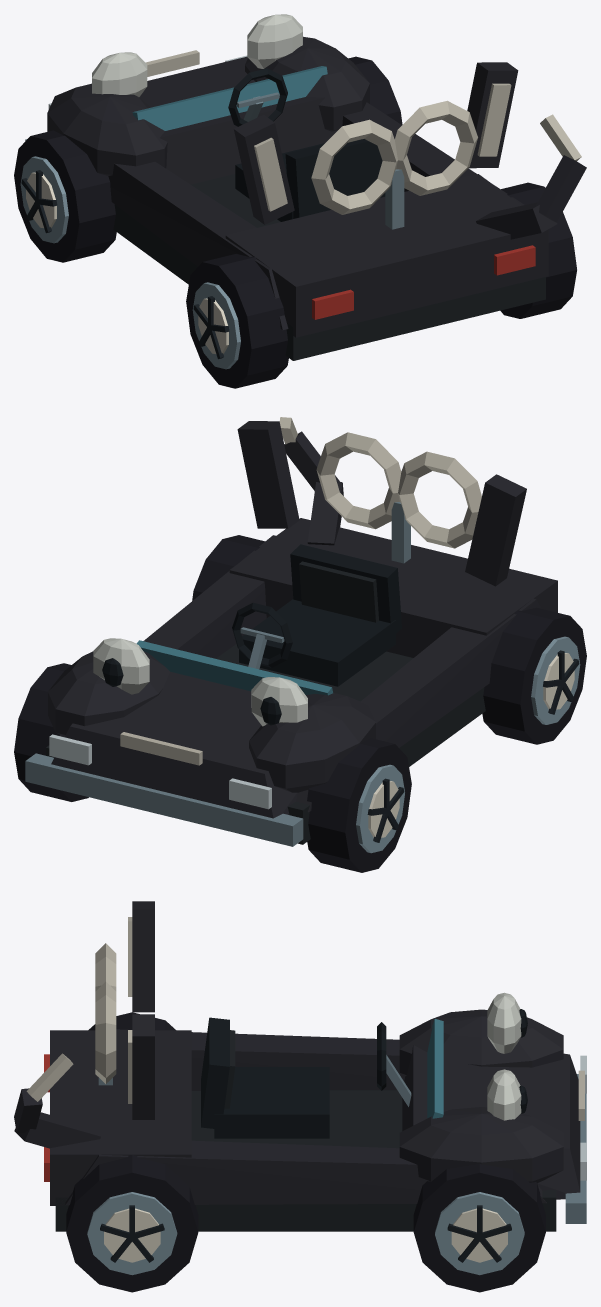
File: kart.glb
The picture shows the model from 3 angles, top to bottom: view 1: azimuth 30°, elevation 25°; view 2: azimuth 150°, elevation 25°; view 3: azimuth 270°, elevation 25°; orthographic projection.
Parts seen in each view (by area): view 1: identity-toy-car-toy-rounded-body-and-wind-up-key, wheel-rear-left, wheel-front-left, identity-toy-car-motif-ears, identity-toy-car-driver-cockpit, identity-toy-car-motif-eyes, identity-toy-car-motif-tail, wheel-rear-right, wheel-front-right; view 2: identity-toy-car-toy-rounded-body-and-wind-up-key, identity-toy-car-driver-cockpit, wheel-rear-left, wheel-front-left, identity-toy-car-motif-ears, identity-toy-car-motif-eyes, wheel-front-right, identity-toy-car-motif-tail, wheel-rear-right; view 3: identity-toy-car-toy-rounded-body-and-wind-up-key, wheel-rear-right, wheel-front-right, identity-toy-car-driver-cockpit, identity-toy-car-motif-ears, identity-toy-car-motif-eyes, identity-toy-car-motif-tail, wheel-rear-left.
Part boxes in pixels (x1=…): identity-toy-car-toy-rounded-body-and-wind-up-key: x1=25, y1=36, x2=548, y2=360; wheel-rear-left: x1=186, y1=254, x2=288, y2=388; wheel-front-left: x1=14, y1=130, x2=116, y2=262; identity-toy-car-motif-ears: x1=234, y1=62, x2=518, y2=224; identity-toy-car-driver-cockpit: x1=228, y1=68, x2=385, y2=221; identity-toy-car-motif-eyes: x1=92, y1=14, x2=302, y2=96; identity-toy-car-motif-tail: x1=476, y1=114, x2=586, y2=239; wheel-rear-right: x1=500, y1=182, x2=576, y2=318; wheel-front-right: x1=348, y1=56, x2=402, y2=124; identity-toy-car-toy-rounded-body-and-wind-up-key: x1=25, y1=432, x2=557, y2=846; identity-toy-car-driver-cockpit: x1=232, y1=544, x2=401, y2=686; wheel-rear-left: x1=482, y1=607, x2=586, y2=744; wheel-front-left: x1=307, y1=738, x2=411, y2=872; identity-toy-car-motif-ears: x1=237, y1=421, x2=526, y2=586; identity-toy-car-motif-eyes: x1=93, y1=638, x2=307, y2=726; wheel-front-right: x1=14, y1=663, x2=88, y2=801; identity-toy-car-motif-tail: x1=279, y1=417, x2=343, y2=545; wheel-rear-right: x1=192, y1=535, x2=264, y2=600; identity-toy-car-toy-rounded-body-and-wind-up-key: x1=44, y1=943, x2=586, y2=1231; wheel-rear-right: x1=66, y1=1154, x2=198, y2=1292; wheel-front-right: x1=413, y1=1164, x2=545, y2=1292; identity-toy-car-driver-cockpit: x1=201, y1=1017, x2=411, y2=1138; identity-toy-car-motif-ears: x1=128, y1=901, x2=154, y2=1119; identity-toy-car-motif-eyes: x1=487, y1=992, x2=527, y2=1120; identity-toy-car-motif-tail: x1=14, y1=1053, x2=100, y2=1148; wheel-rear-left: x1=88, y1=1012, x2=175, y2=1030.
Size of the model in its own units: 2.13 by 1.46 by 3.03.
